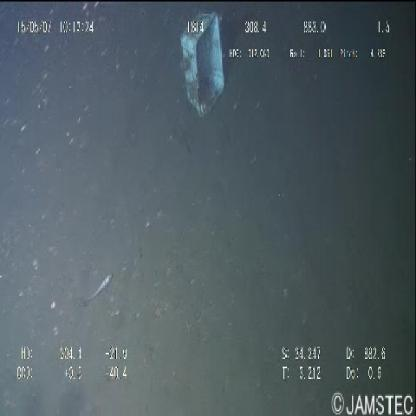Rác: (178, 1, 230, 125)
